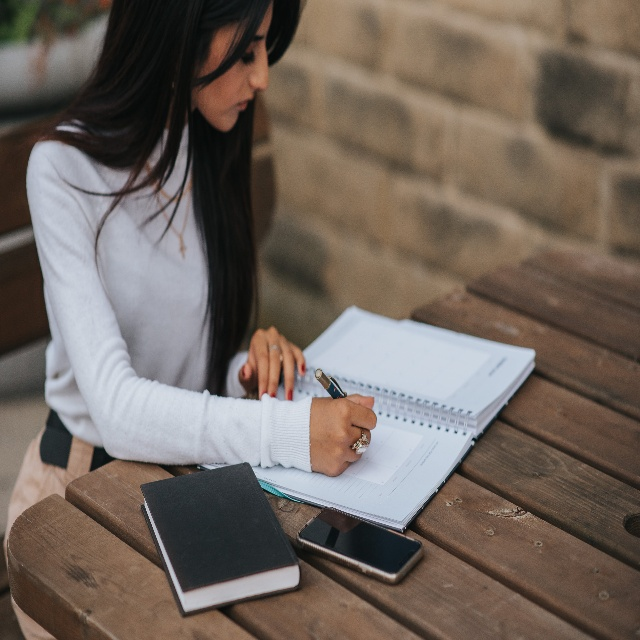Sin_guantes: (308, 392, 380, 478), (237, 325, 306, 403)
